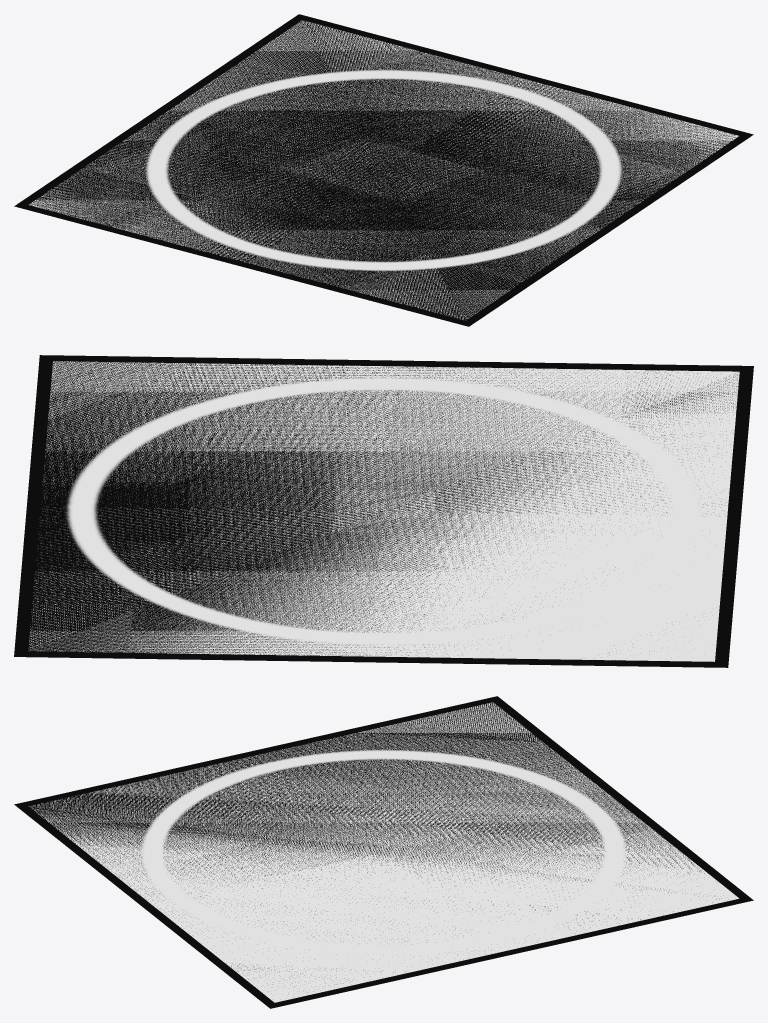
File: RingParent.fbx
3 views of the same model, one above another, from view 1: azimuth 30°, elevation 25°; view 2: azimuth 150°, elevation 25°; view 3: azimuth 270°, elevation 25° (orthographic). The views are drawn at different scales.
Parts seen in each view (by area): view 1: Scale, Static; view 2: Static, Scale; view 3: Static, Scale.
Part boxes in pixels (bbox=[...]): Scale: bbox=[14, 14, 753, 326]; Static: bbox=[29, 20, 738, 320]; Static: bbox=[28, 361, 739, 661]; Scale: bbox=[14, 355, 753, 667]; Static: bbox=[29, 702, 739, 1002]; Scale: bbox=[14, 696, 753, 1008].
Bounding box in the file's own units: 1.69 × 1.66e-07 × 1.69.
